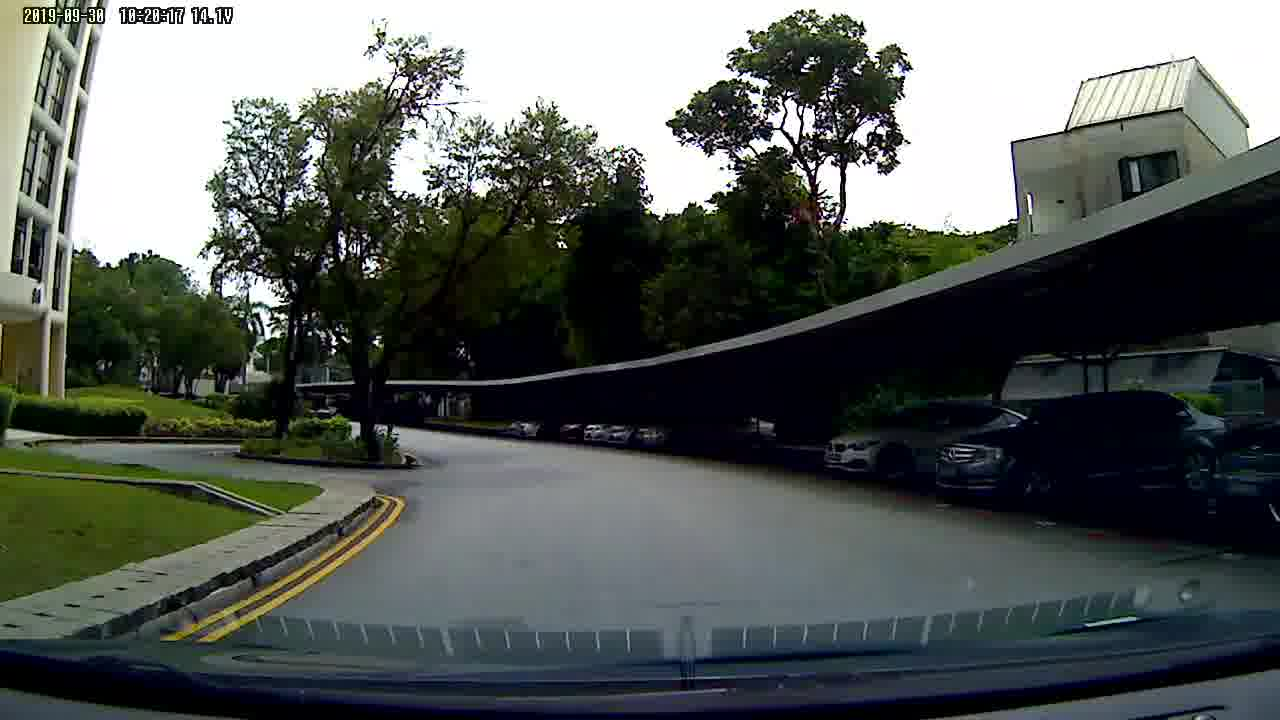car: (940, 391, 1217, 525), (812, 388, 934, 504)
